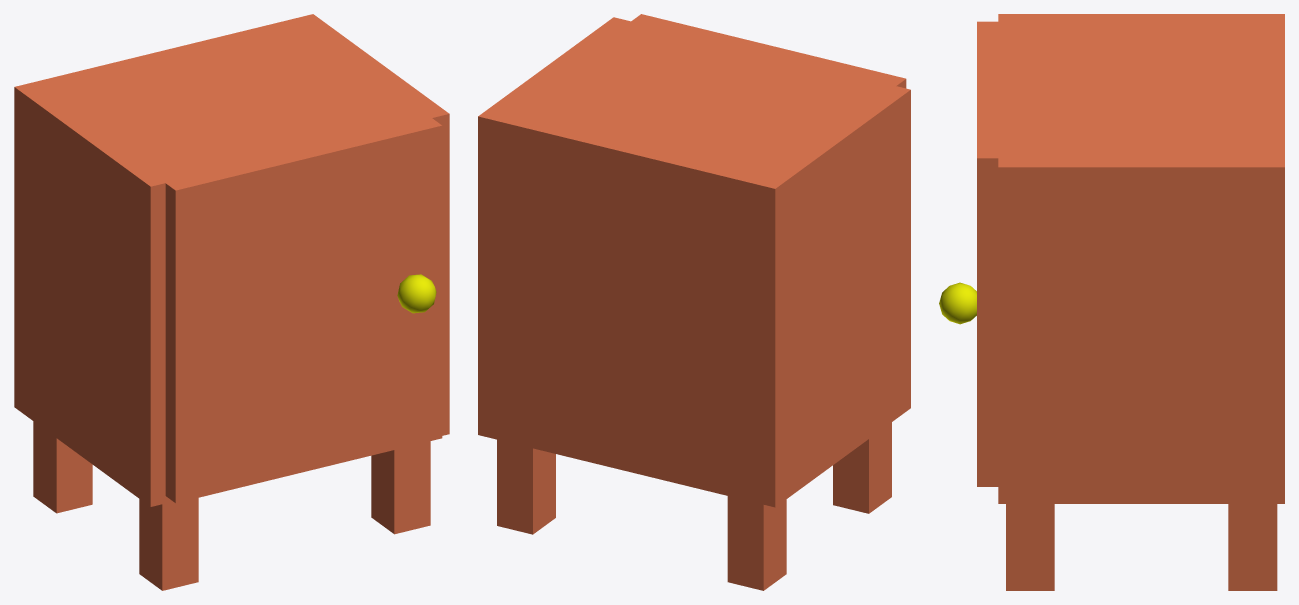
Rendered from FloorShelf.fbx.
3 views of the same model, side by side, from view 1: azimuth 30°, elevation 25°; view 2: azimuth 150°, elevation 25°; view 3: azimuth 270°, elevation 25° (orthographic). The views are drawn at different scales.
Parts seen in each view (by area): view 1: FloorShelf, Куб.004; view 2: FloorShelf, Куб.004; view 3: FloorShelf, Куб.004.
Boxes of the visible parts, x1=… form: FloorShelf: x1=14, y1=14, x2=449, y2=590; Куб.004: x1=165, y1=118, x2=442, y2=503; FloorShelf: x1=478, y1=17, x2=910, y2=590; Куб.004: x1=631, y1=14, x2=906, y2=88; FloorShelf: x1=998, y1=14, x2=1284, y2=590; Куб.004: x1=939, y1=21, x2=998, y2=486.
Bounding box in the file's own units: 82.08 × 108 × 78.28.
